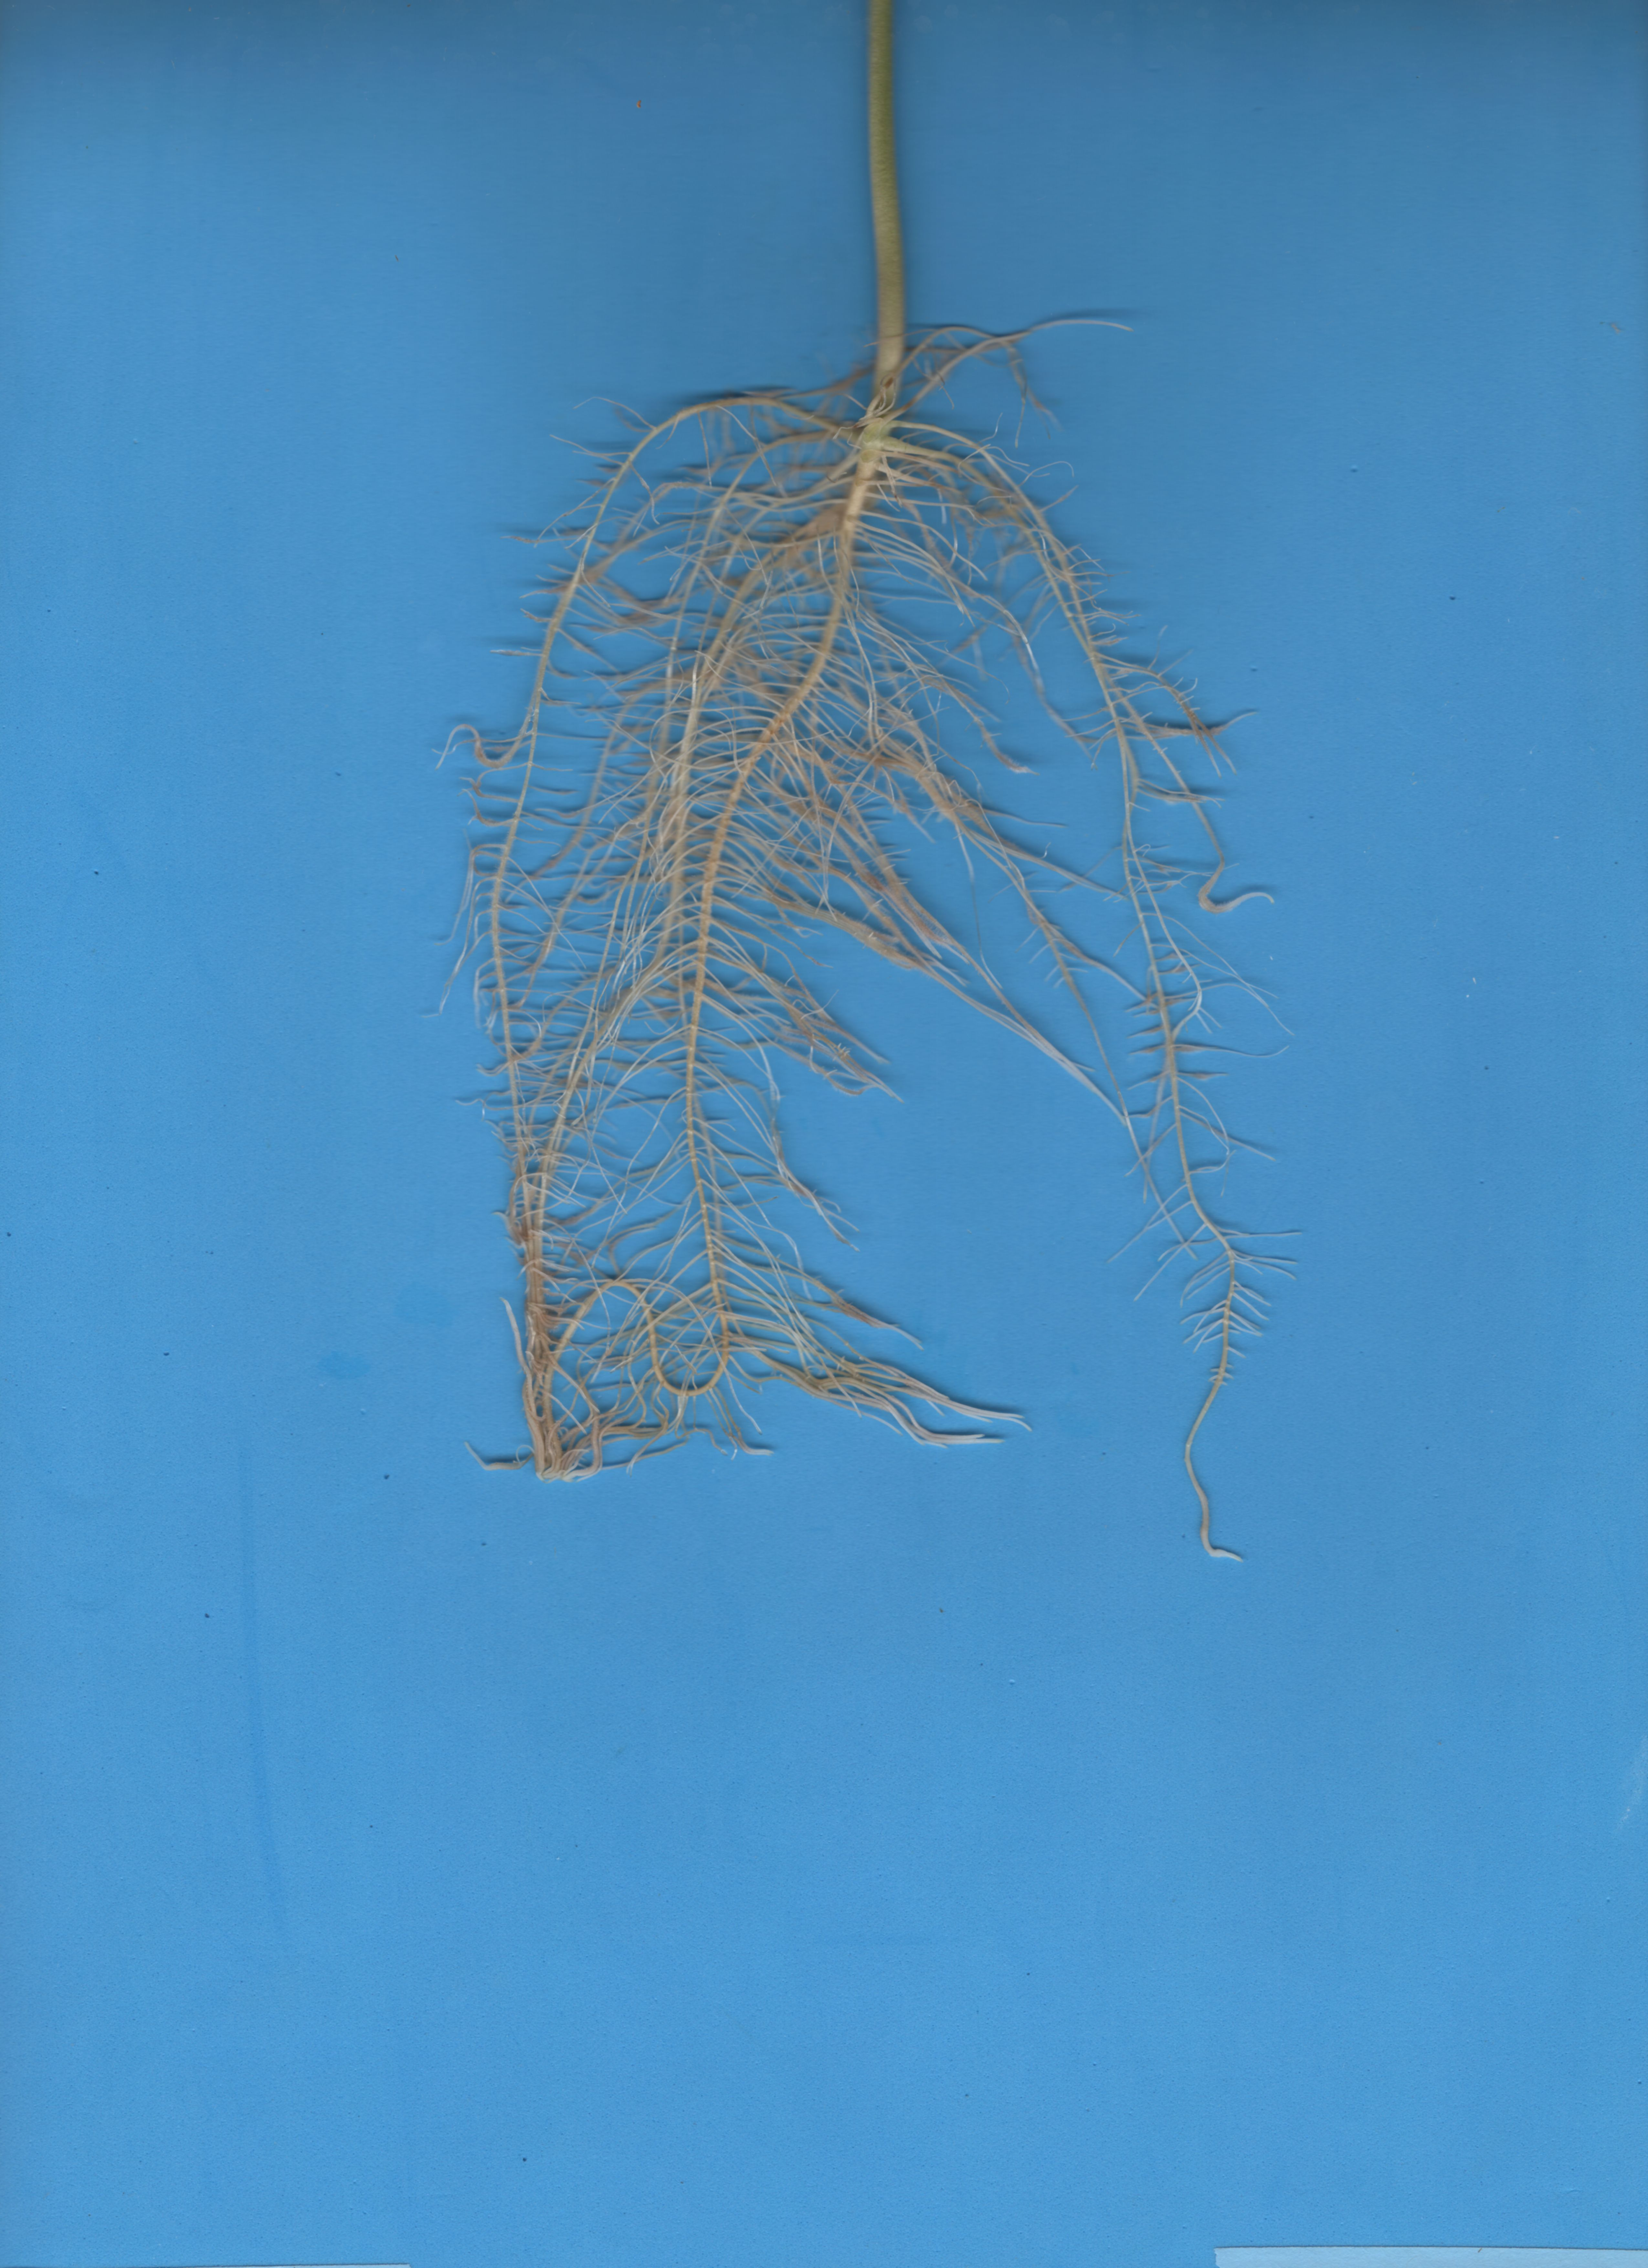CROWNGOOD: (803, 5, 953, 438)
ROOTGOOD: (329, 352, 1386, 1609)
